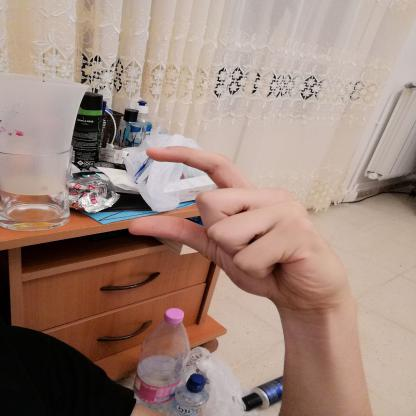DELL: (114, 134, 356, 316)
